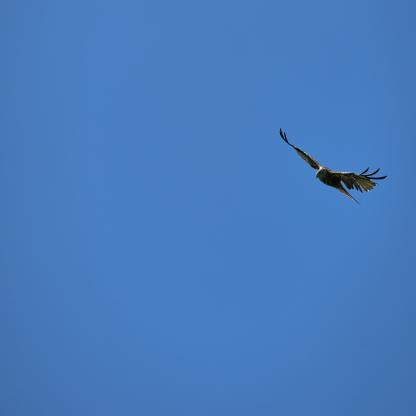bird: (279, 127, 389, 207)
